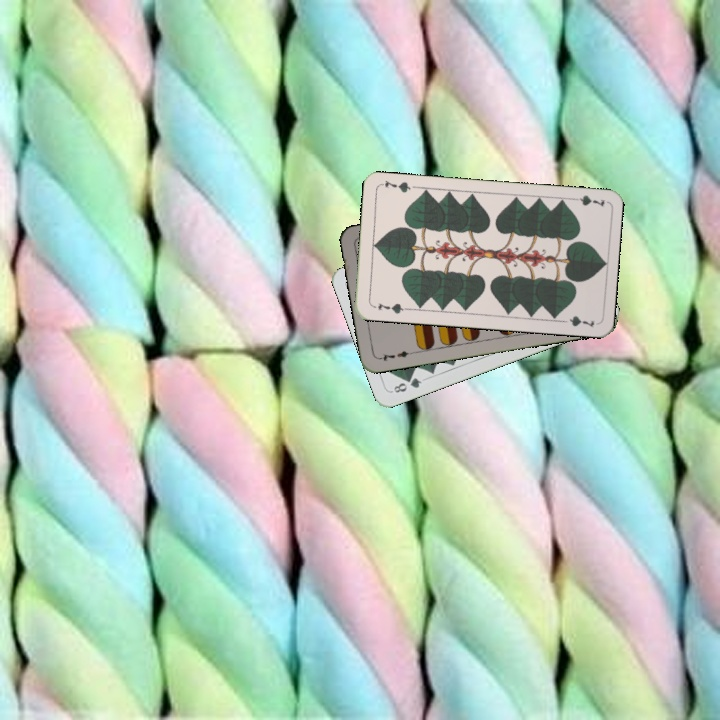E7: (375, 346, 415, 364)
G7: (566, 191, 607, 209), (374, 299, 410, 316)
G8: (388, 374, 424, 396)
